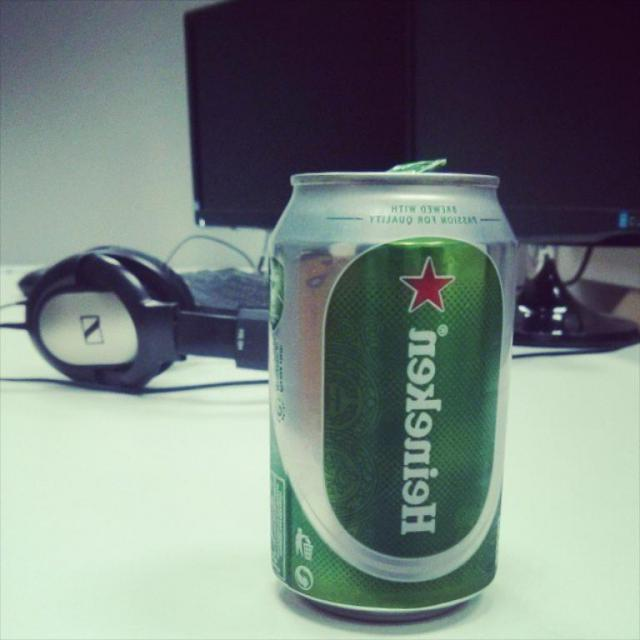metal: (264, 154, 522, 627)
